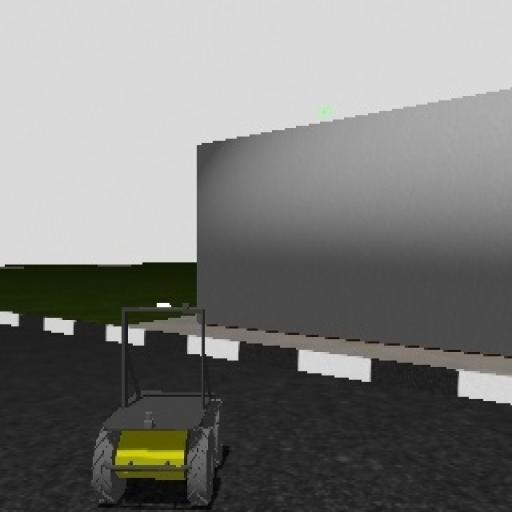huskya200: (84, 300, 227, 510)
